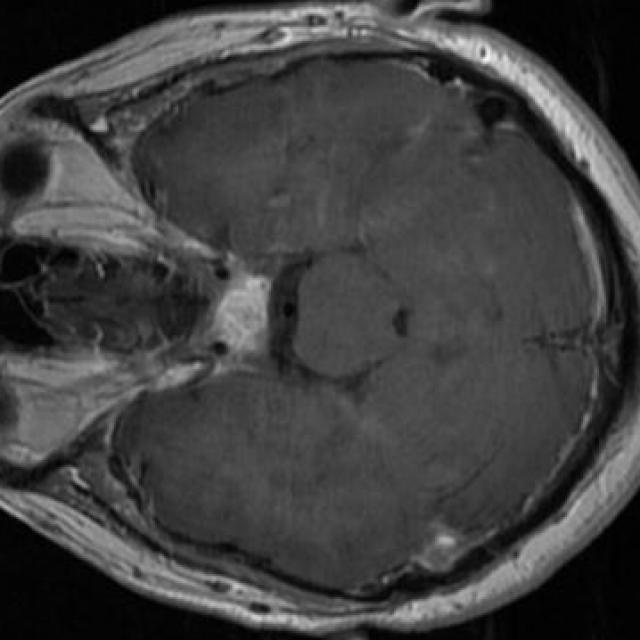pituitary: (210, 275, 271, 358)
